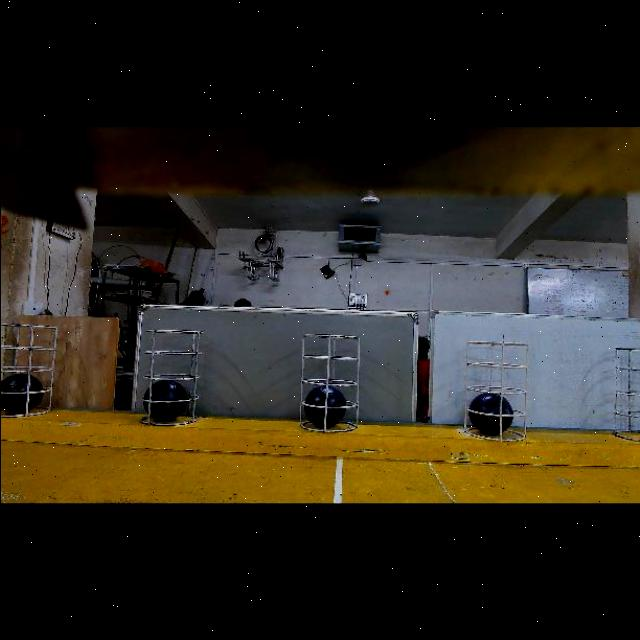P: (141, 379, 187, 419), (468, 392, 512, 432), (304, 384, 345, 424), (3, 371, 44, 410)
S: (132, 324, 202, 434), (294, 325, 358, 433), (461, 340, 529, 440), (1, 300, 54, 420), (608, 346, 640, 436)
